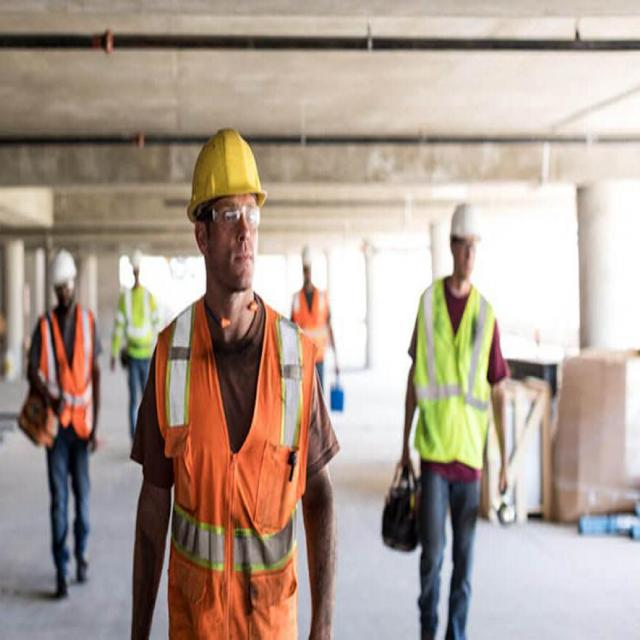Reflective-Jacket: (153, 298, 314, 634), (402, 277, 505, 488), (36, 302, 96, 444)
Safety-Helmet: (186, 121, 267, 224), (442, 190, 489, 256), (51, 247, 78, 291)
